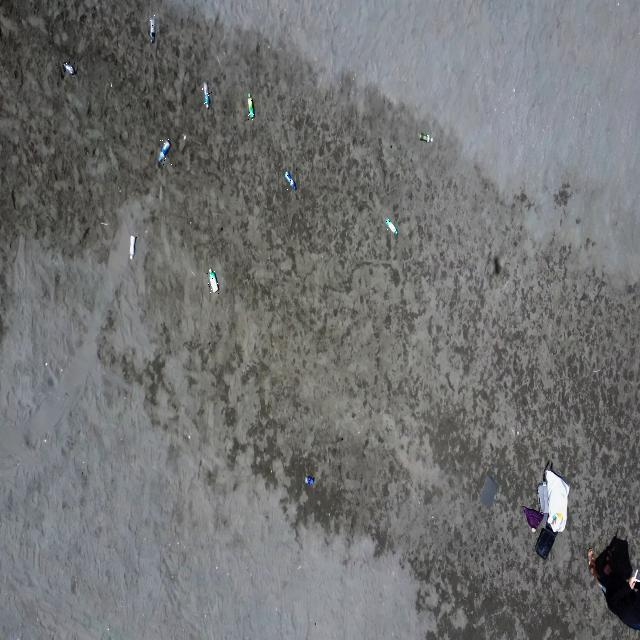plastic-bottle: (158, 138, 172, 166), (207, 269, 219, 294), (202, 80, 212, 109), (384, 216, 398, 236), (285, 168, 297, 190), (61, 60, 77, 76), (128, 234, 137, 261), (418, 132, 434, 145), (247, 91, 254, 120), (149, 15, 156, 44), (306, 476, 314, 486)
